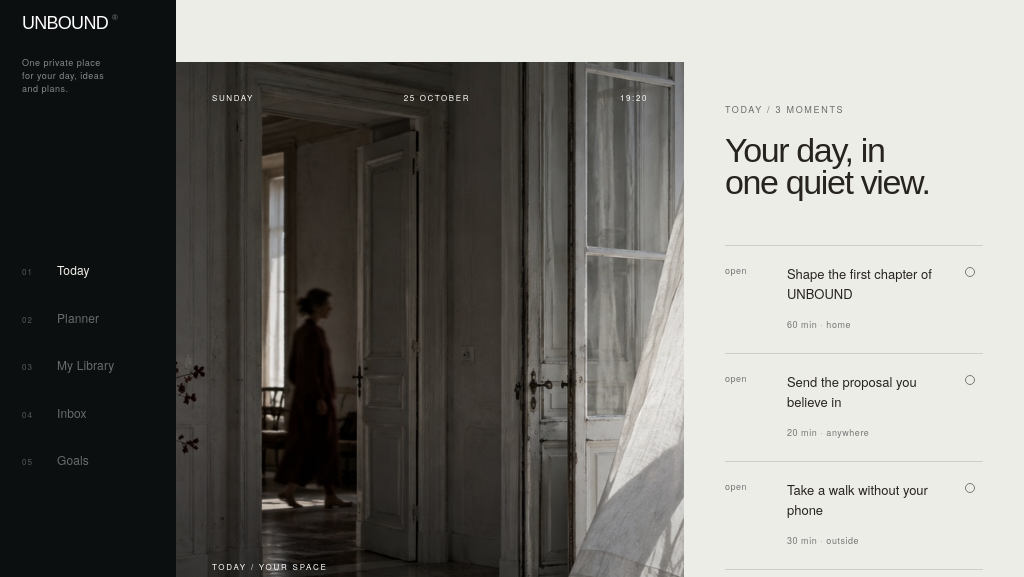
Test case: UNBOUND Life OS interactions › offers one-way Google and Apple calendar handoff from Inbox
Click the link "04 Inbox": (54, 412) [22,404,87,421]
(page scrolled)
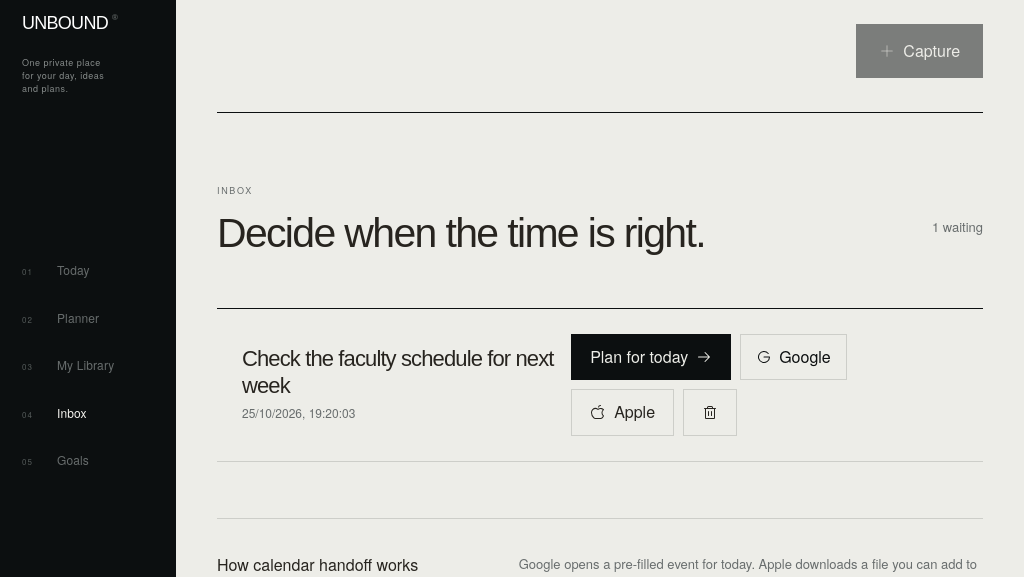
Expected: the button "Apple" is shown, [571,389,674,436]
